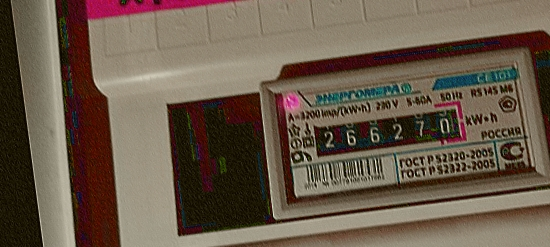0: (436, 114, 449, 136)
2: (319, 127, 336, 150), (389, 120, 404, 142)
6: (342, 126, 357, 148), (366, 123, 381, 144)
7: (412, 117, 426, 138)
screen: (297, 92, 476, 170)
